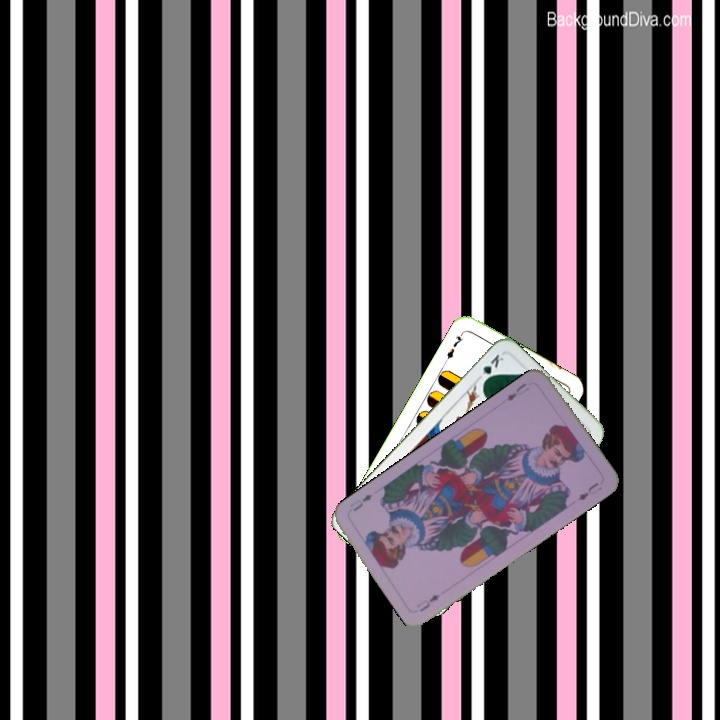E7: (441, 327, 467, 365)
EU: (502, 379, 531, 404), (413, 590, 442, 614)
GK: (478, 350, 506, 386)
